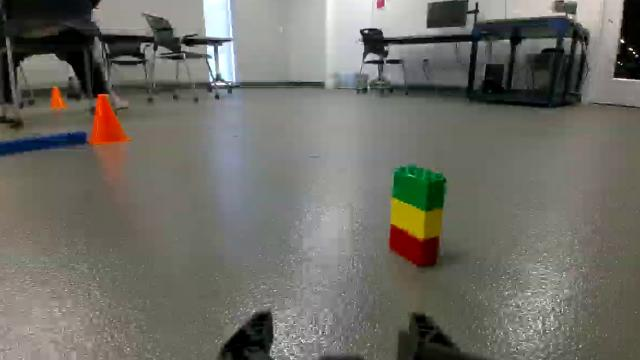lego: (380, 145, 460, 279)
